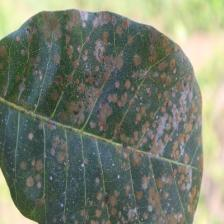red rust: (0, 9, 204, 224)
